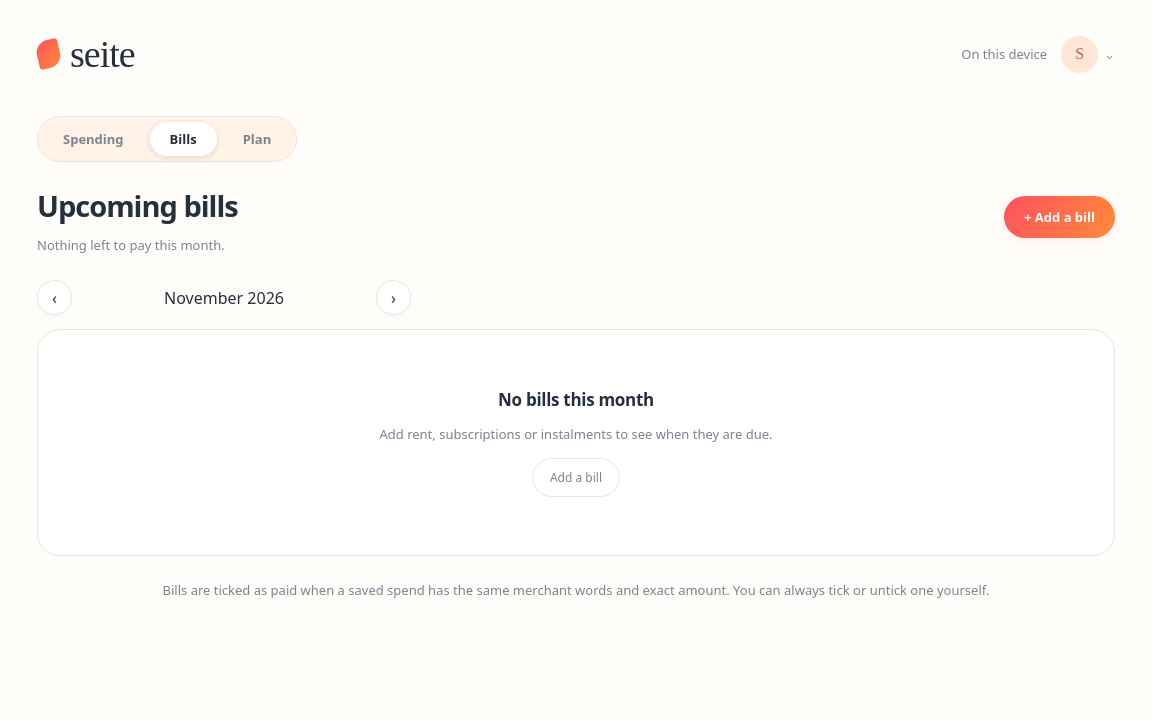
it: Bills page › adds a bill from the form
The width and height of the screenshot is (1152, 720).
Expected: the heading "No bills this month" is shown, x1=498 y1=388 x2=654 y2=411
Click the button "+ Add a bill" at (1060, 216), box x1=1004 y1=196 x2=1115 y2=238
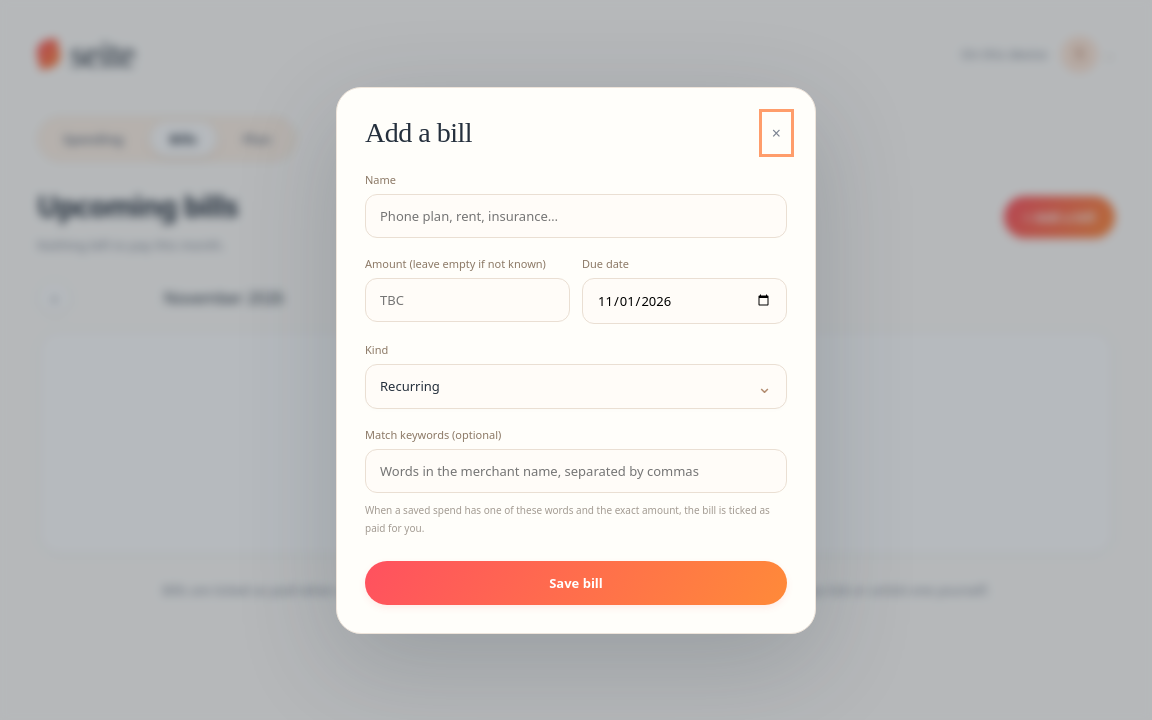
Type "Gym" into the field labelled "Name" at (576, 216), box x1=365 y1=194 x2=787 y2=238
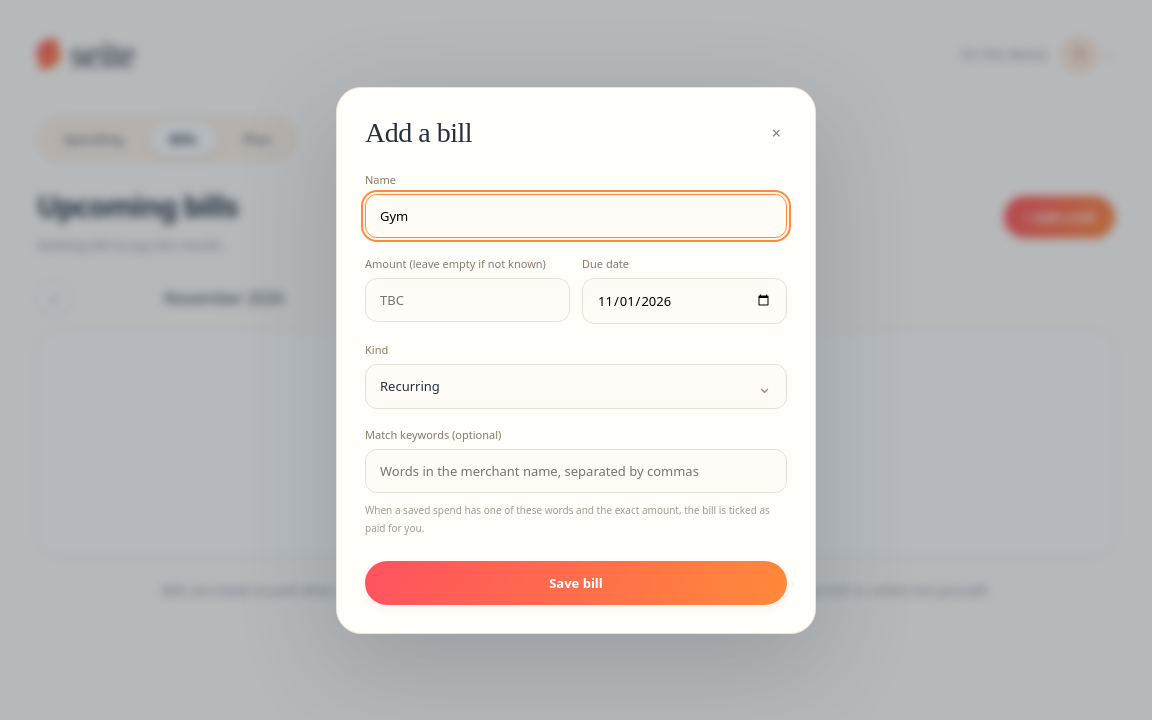
Type "59" into the field labelled "Amount (leave empty if not known)" at (468, 300), box x1=365 y1=278 x2=570 y2=322
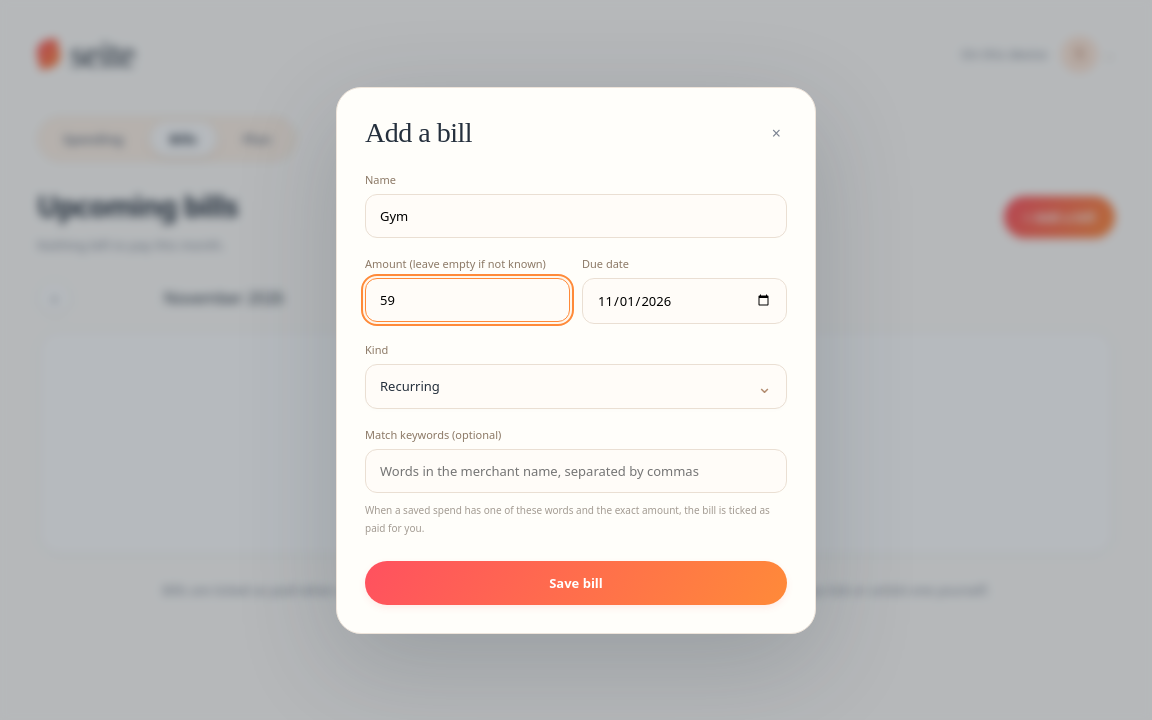
Click the button "Save bill" at (576, 582), box x1=365 y1=560 x2=787 y2=604
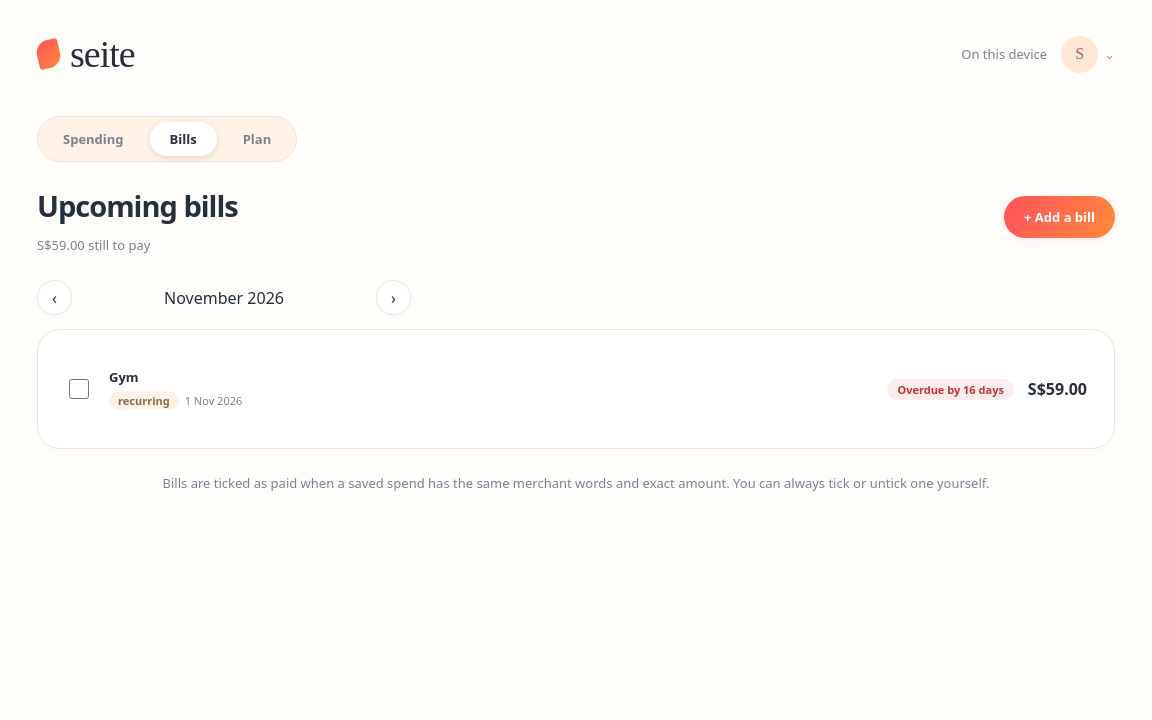
Expected: the checkbox named "Gym paid" is shown, x1=69 y1=379 x2=89 y2=399
